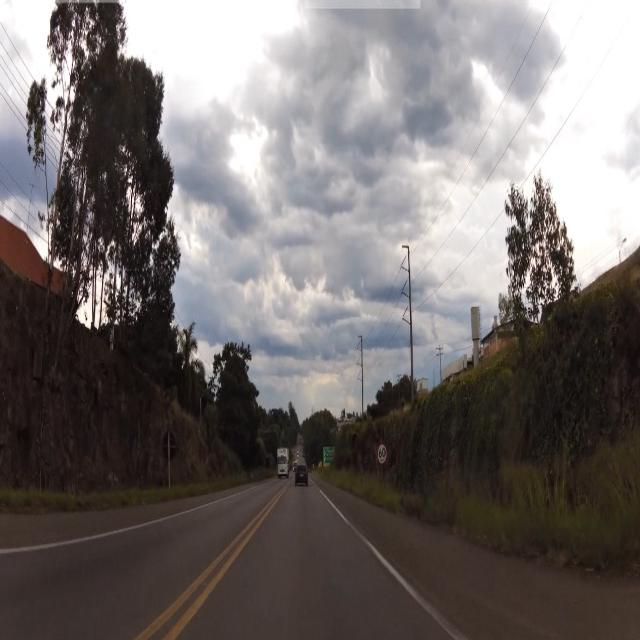R-19: (379, 448, 388, 472)
